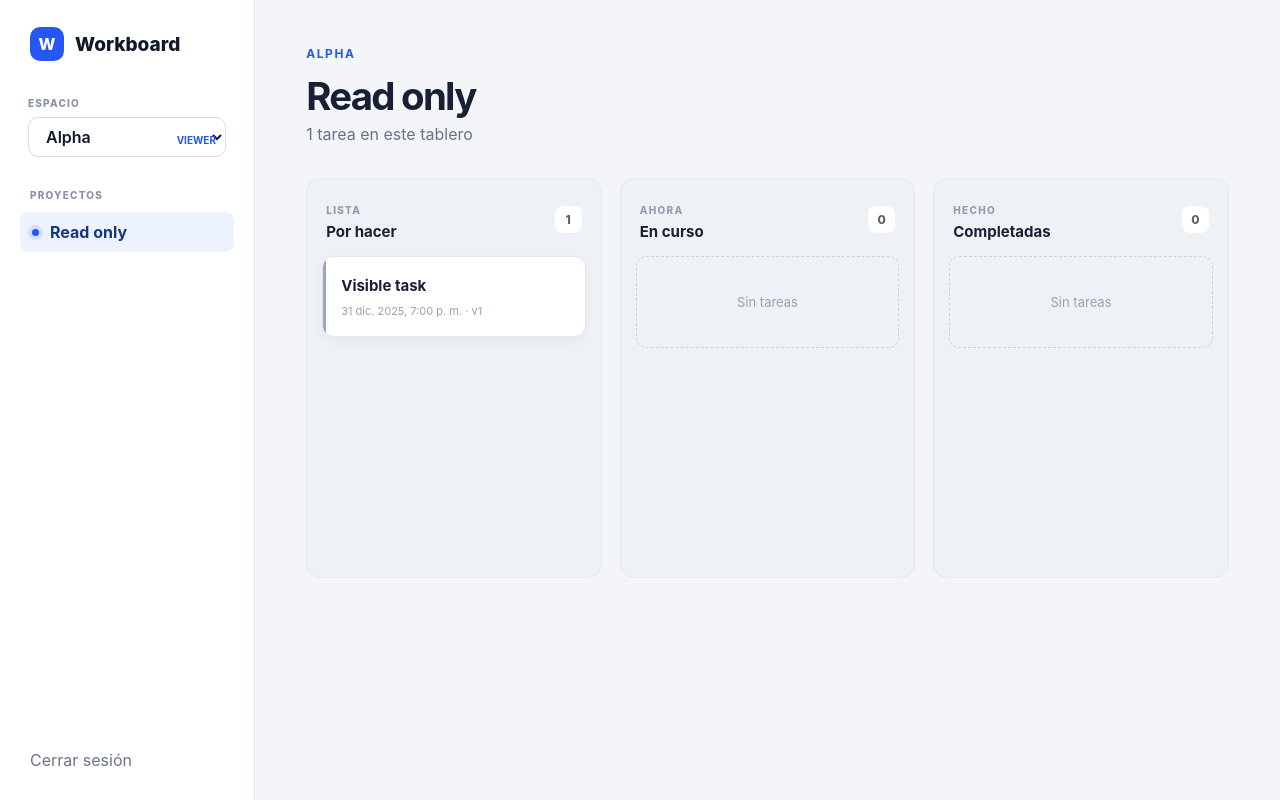
does not show mutation controls to a viewer
Check: the heading "Visible task" is shown, box left=341, top=276, right=426, bottom=295
Click the button "Cerrar sesión".
click(127, 760)  # box left=20, top=740, right=234, bottom=780
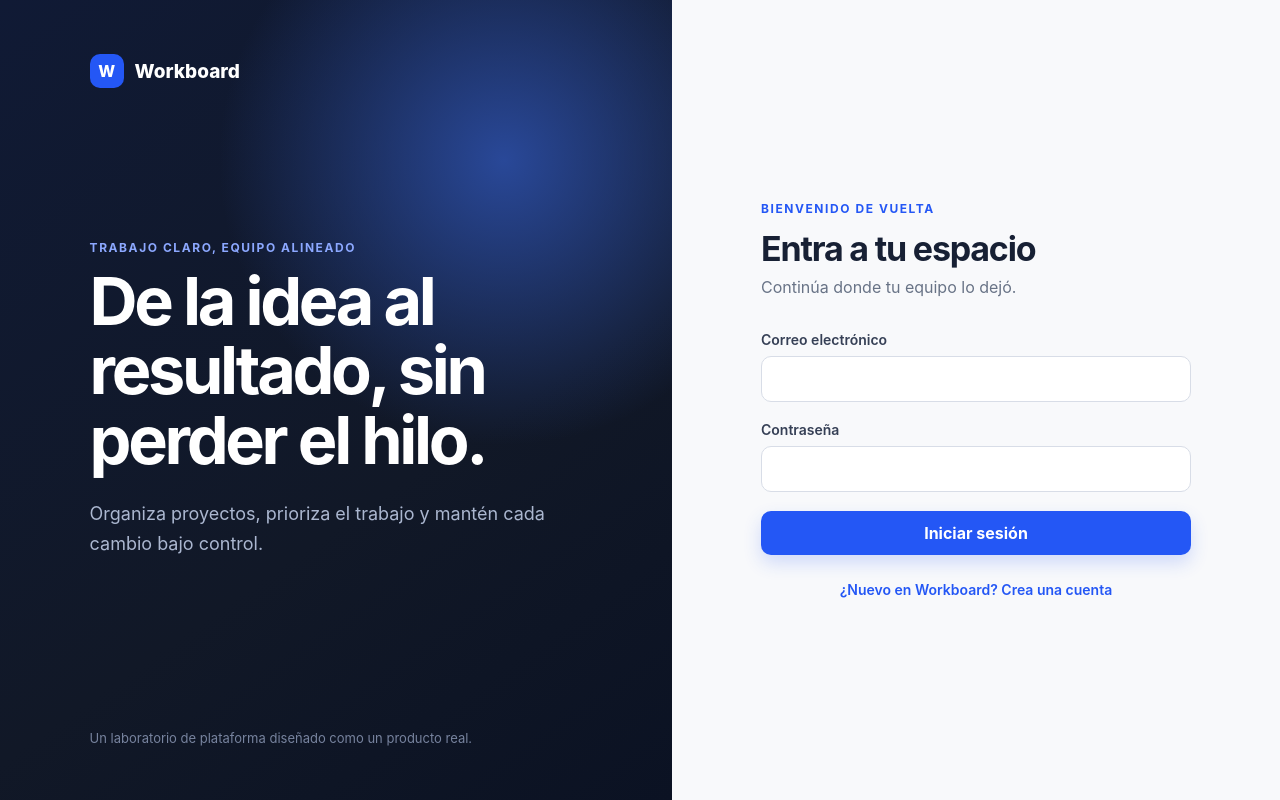
Check: the heading "Entra a tu espacio" is shown, box left=761, top=228, right=1035, bottom=269
